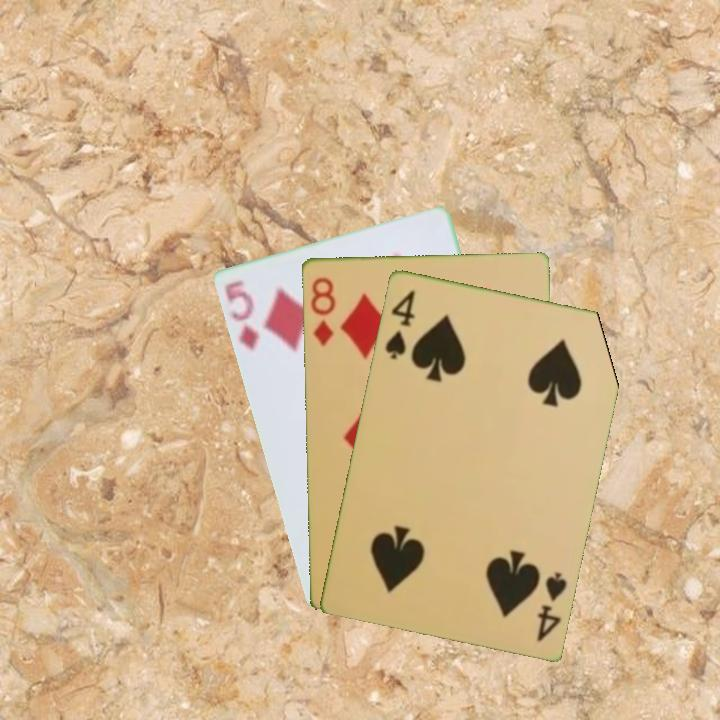4s: (381, 285, 418, 362), (533, 568, 569, 644)
5d: (220, 276, 262, 353)
8d: (307, 273, 338, 348)
